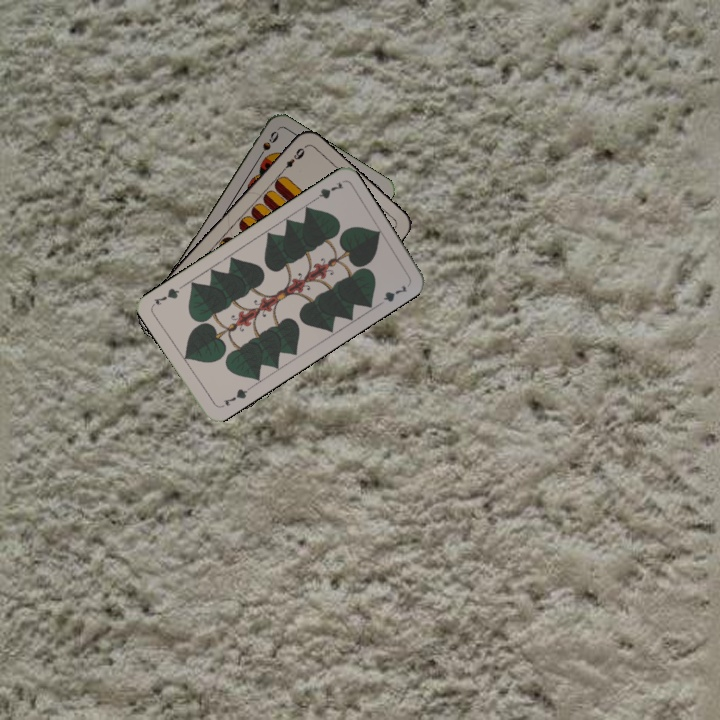E9: (277, 144, 307, 176)
G7: (308, 177, 346, 205), (219, 383, 253, 408)
S9: (253, 127, 281, 163)
